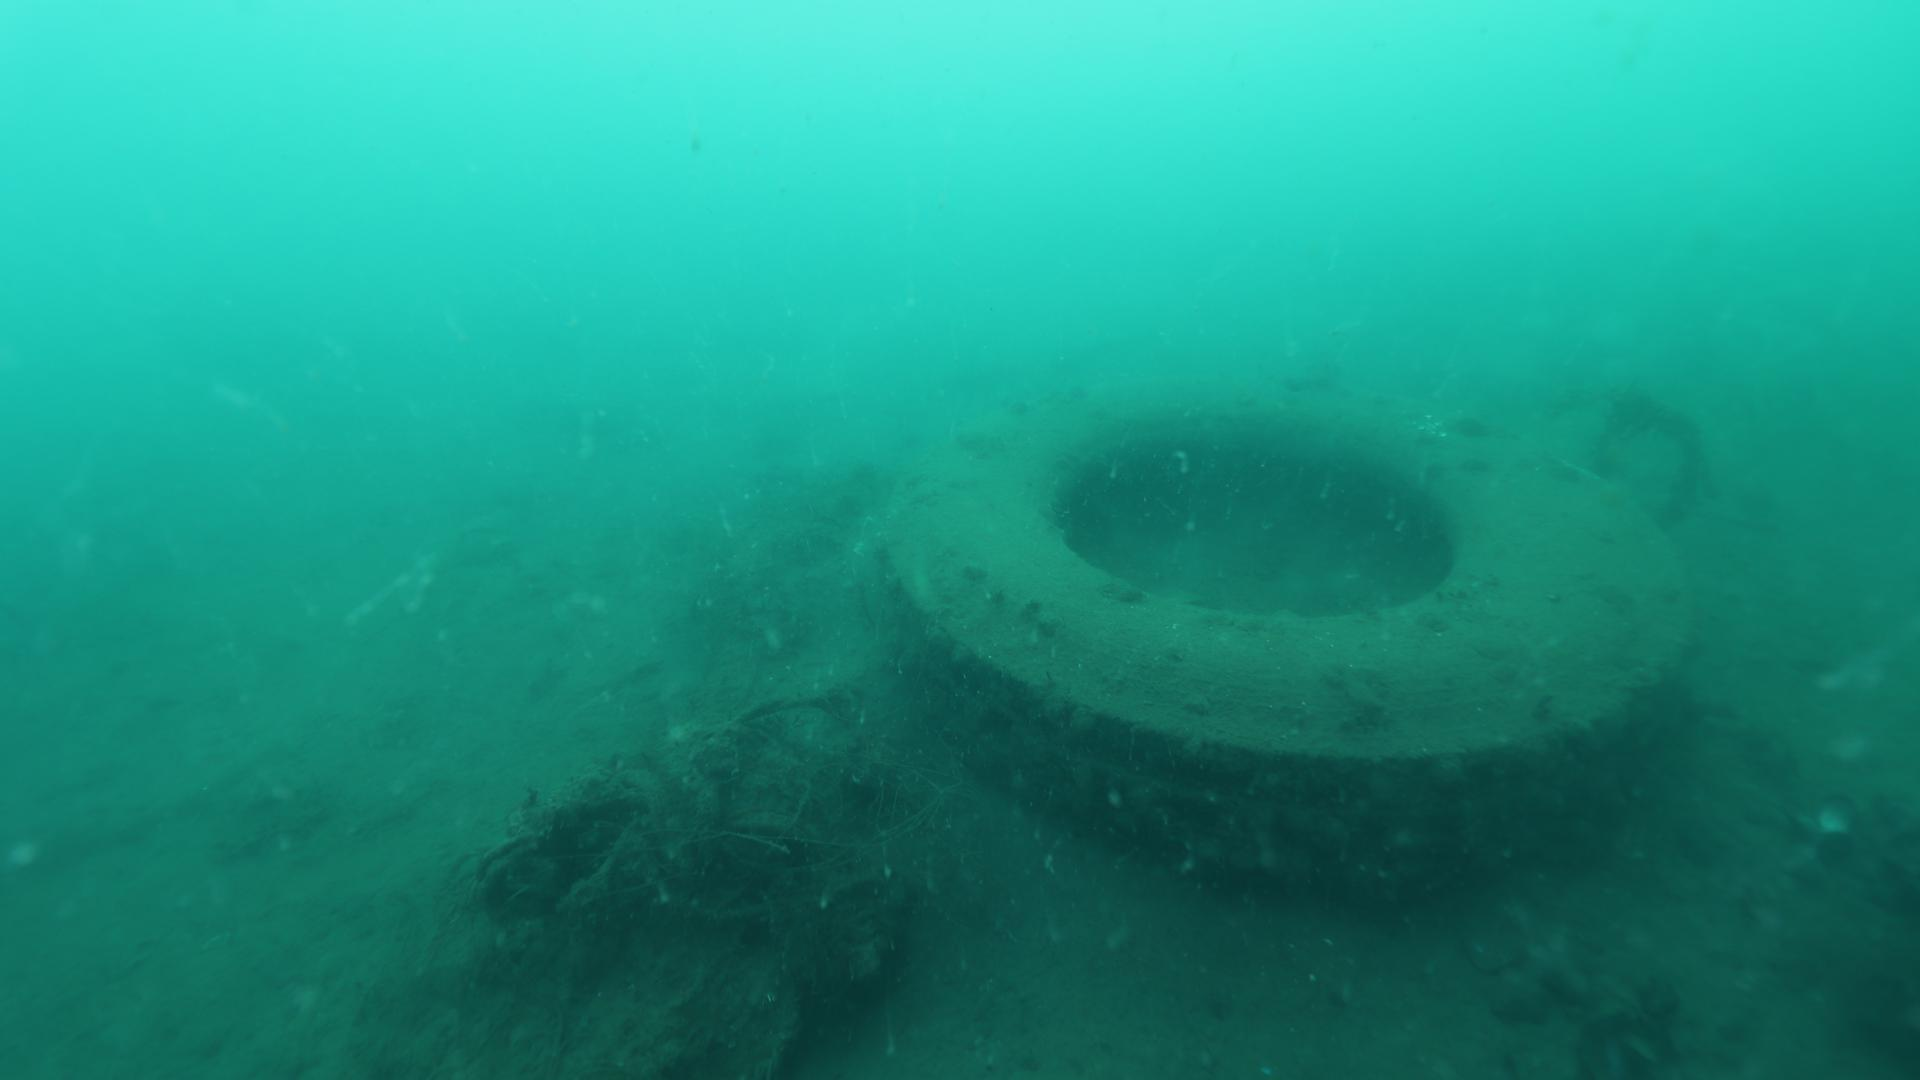tire: (887, 330, 1700, 903)
